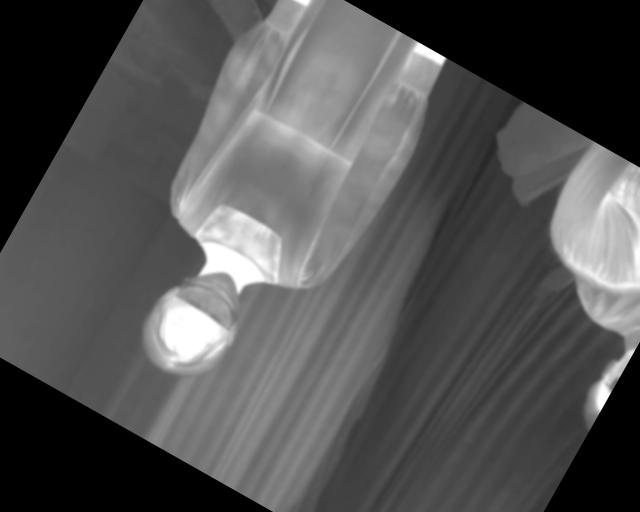face: (124, 245, 264, 395)
